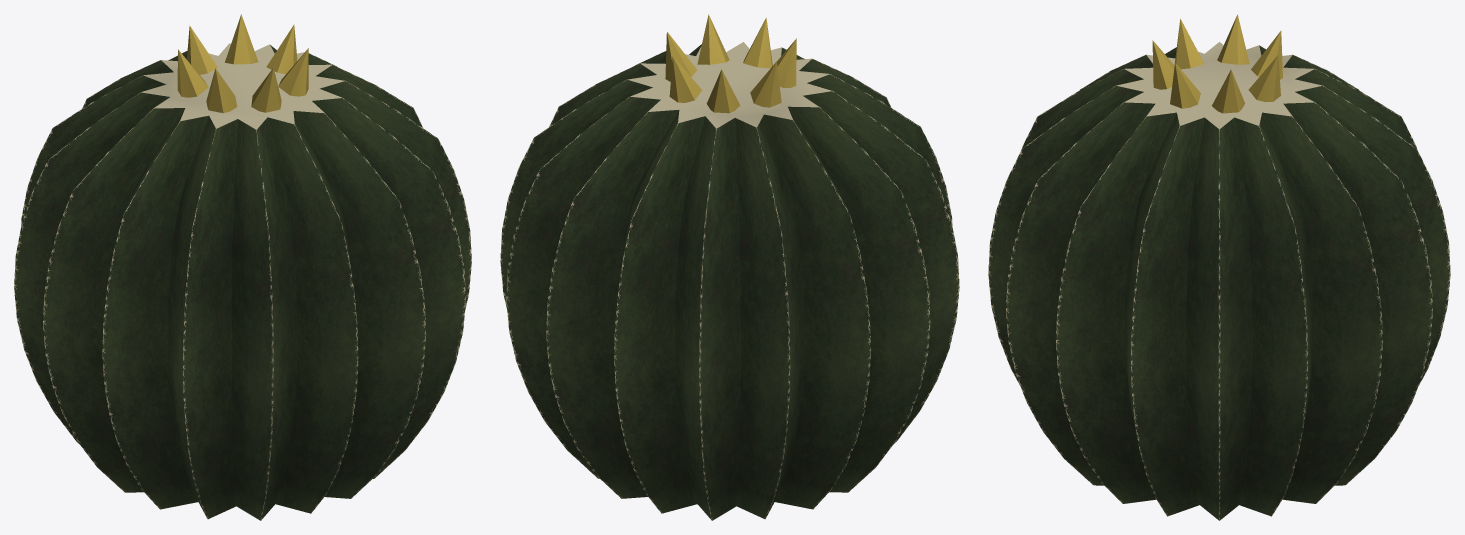
Rendered from cactus_barrel.glb.
3 views of the same model, side by side, from view 1: azimuth 30°, elevation 25°; view 2: azimuth 150°, elevation 25°; view 3: azimuth 270°, elevation 25° (orthographic).
Visible parts, largest first — view 1: cactus_barrel_cactus_skin, cactus_barrel_cactus_flower; view 2: cactus_barrel_cactus_skin, cactus_barrel_cactus_flower; view 3: cactus_barrel_cactus_skin, cactus_barrel_cactus_flower.
Boxes of the visible parts, box(x1,y1,x2,y2) form: cactus_barrel_cactus_skin: box(14, 43, 471, 520); cactus_barrel_cactus_flower: box(177, 14, 308, 113); cactus_barrel_cactus_skin: box(500, 42, 959, 520); cactus_barrel_cactus_flower: box(665, 14, 796, 113); cactus_barrel_cactus_skin: box(988, 42, 1450, 520); cactus_barrel_cactus_flower: box(1152, 14, 1282, 113).
Size of the model in its own units: 0.8968 by 0.9034 by 0.8968.
Materials: 2 (1 with a texture image).
